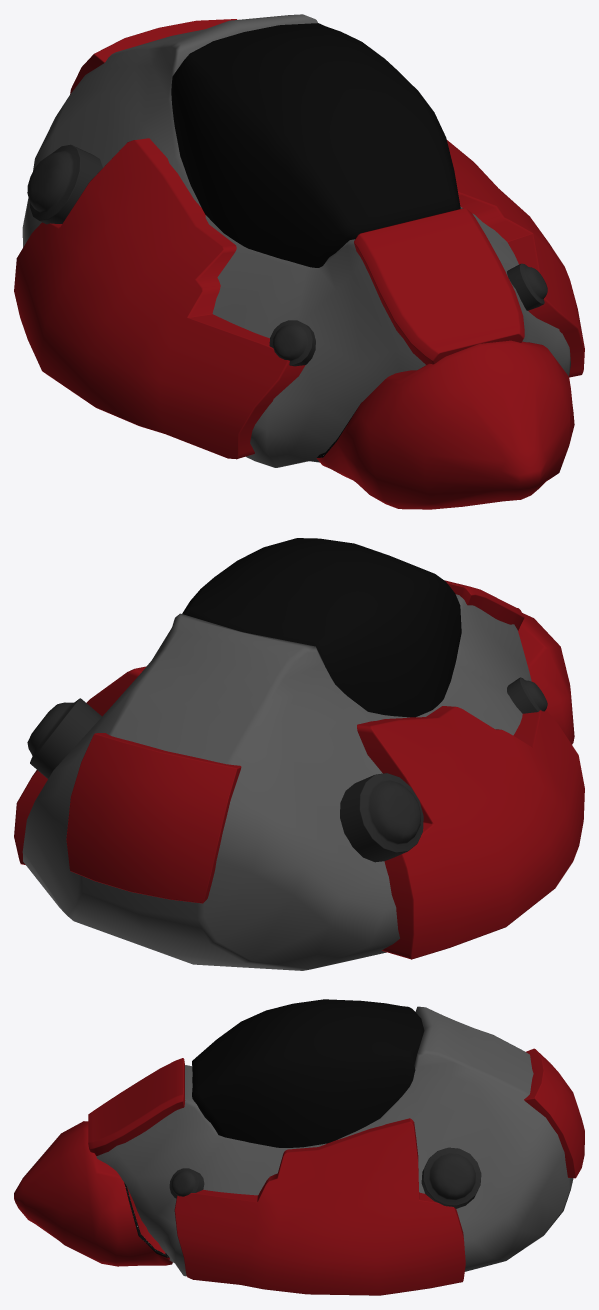
Rendered from Spaceship_main_01_Hull.fbx.
3 views of the same model, one above another, from view 1: azimuth 30°, elevation 25°; view 2: azimuth 150°, elevation 25°; view 3: azimuth 270°, elevation 25° (orthographic). The views are drawn at different scales.
Parts seen in each view (by area): view 1: Spaceship_main_01_Hull; view 2: Spaceship_main_01_Hull; view 3: Spaceship_main_01_Hull.
Part boxes in pixels (left/top/right/bottom): Spaceship_main_01_Hull: left=14, top=14, right=584, bottom=509; Spaceship_main_01_Hull: left=14, top=538, right=584, bottom=970; Spaceship_main_01_Hull: left=14, top=999, right=584, bottom=1295.
Bounding box in the file's own units: 324 × 227 × 480.
